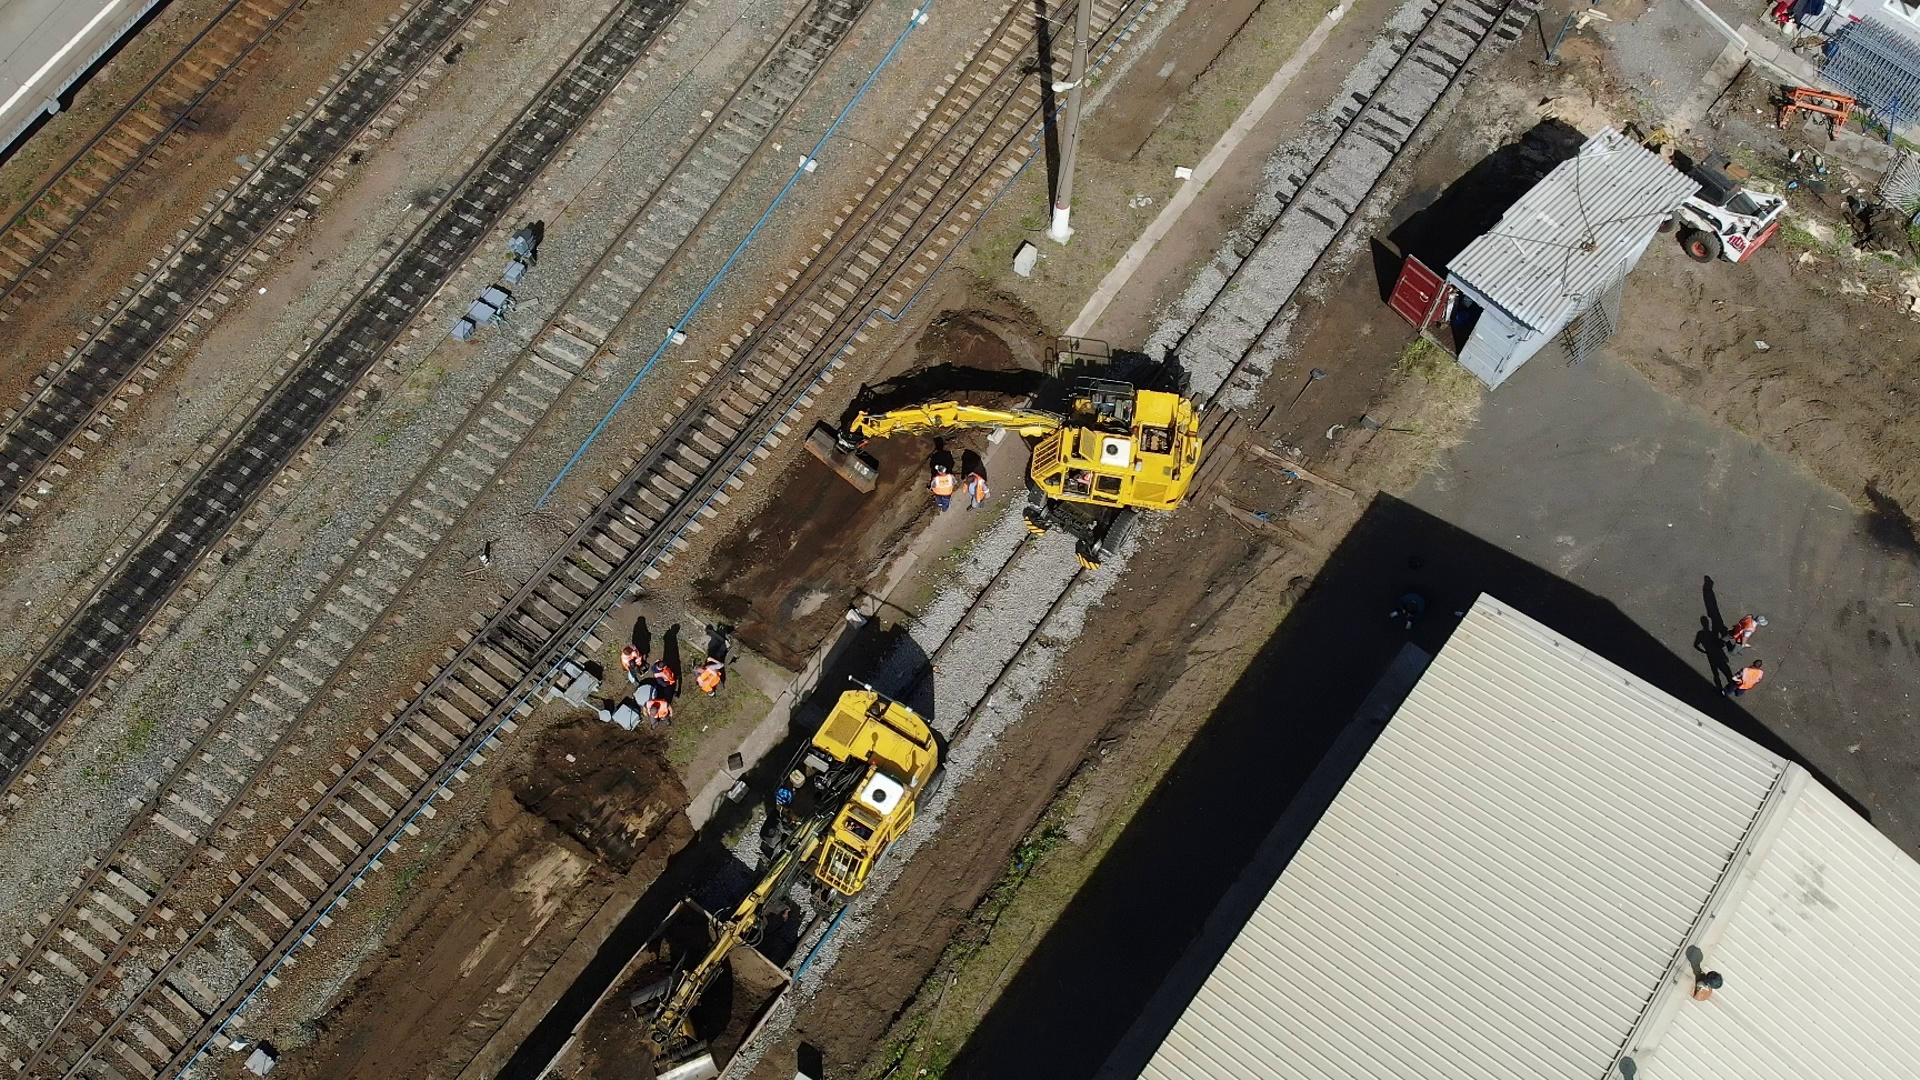kjtv: (751, 678, 936, 902), (952, 379, 1200, 545)
